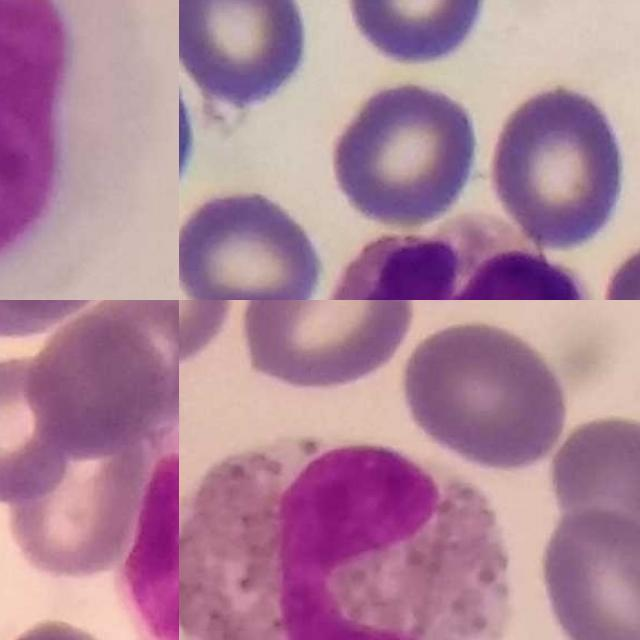Eosinophil: (179, 437, 510, 640), (334, 214, 610, 300)
Monocyte: (0, 0, 158, 300), (126, 363, 179, 640)
